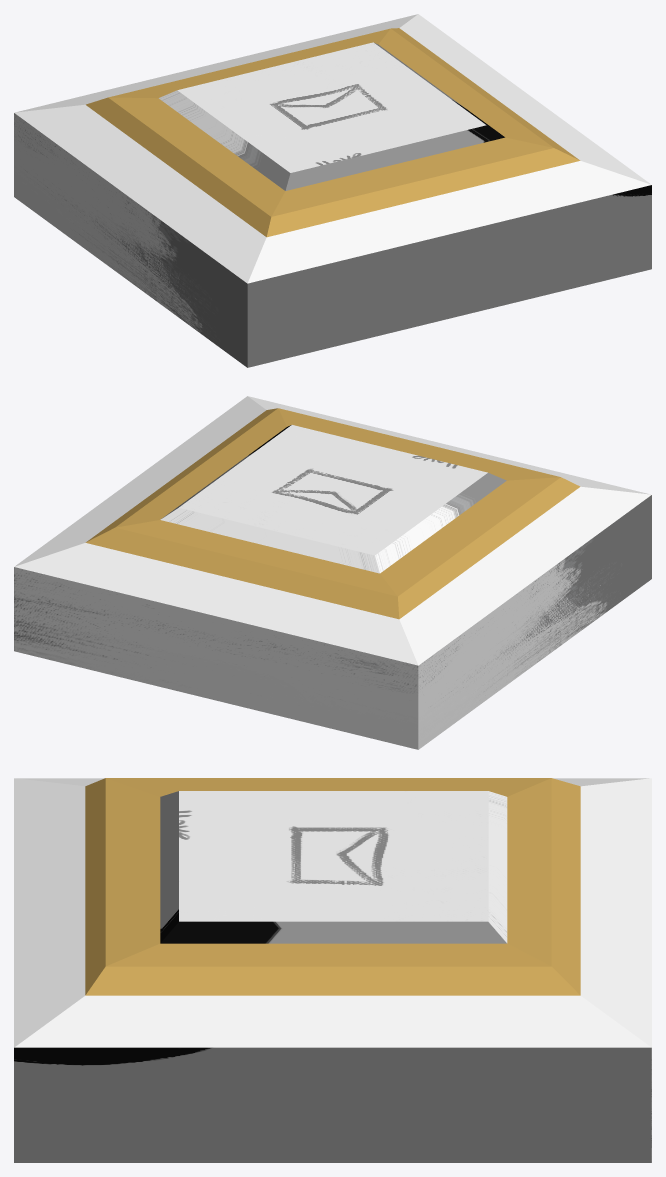
File: landing_pad.fbx
3 renders of one model, top to bottom at view 1: azimuth 30°, elevation 25°; view 2: azimuth 150°, elevation 25°; view 3: azimuth 270°, elevation 25°, orthographic. The views are drawn at different scales.
Visible parts, largest first — view 1: Cube; view 2: Cube; view 3: Cube.
Part boxes in pixels (x1,y1,x2,y2): Cube: (14,14,651,367); Cube: (14,396,651,749); Cube: (14,778,651,1162).
Bounding box in the file's own units: 802 × 237 × 802.
